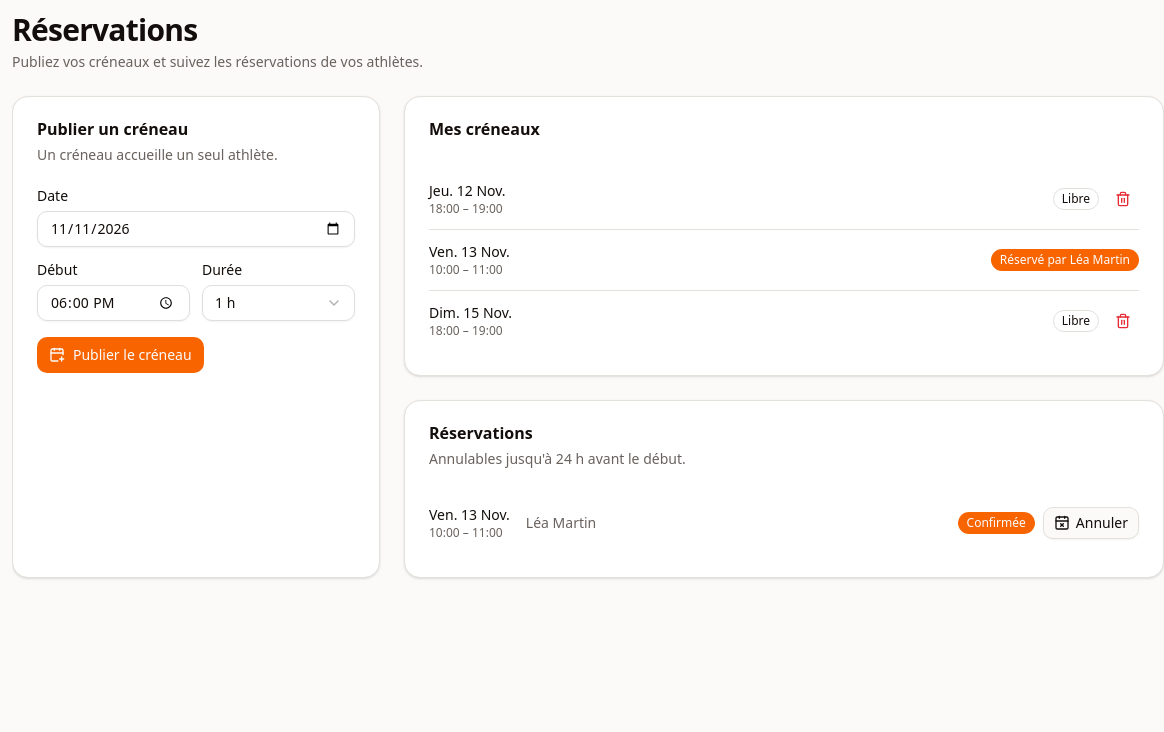
Scenario: BookingPage › coach › publie un créneau
The width and height of the screenshot is (1164, 732).
Expected: the text "Réservé par Léa Martin" is shown, [991, 249, 1139, 271]
Click the button "Publier le créneau" at (120, 355), box [37, 337, 204, 373]
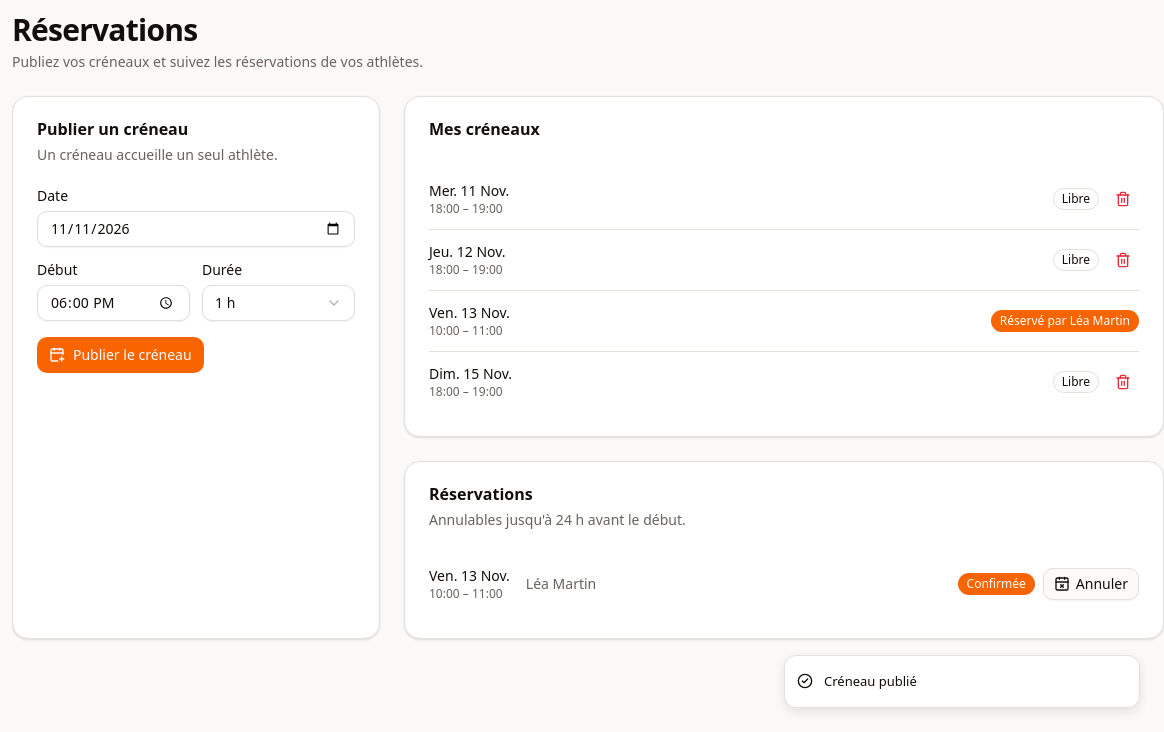
Expected: the text "Libre" is shown 3 times, [1053, 188, 1099, 210]; [1053, 249, 1099, 271]; [1053, 371, 1099, 393]
